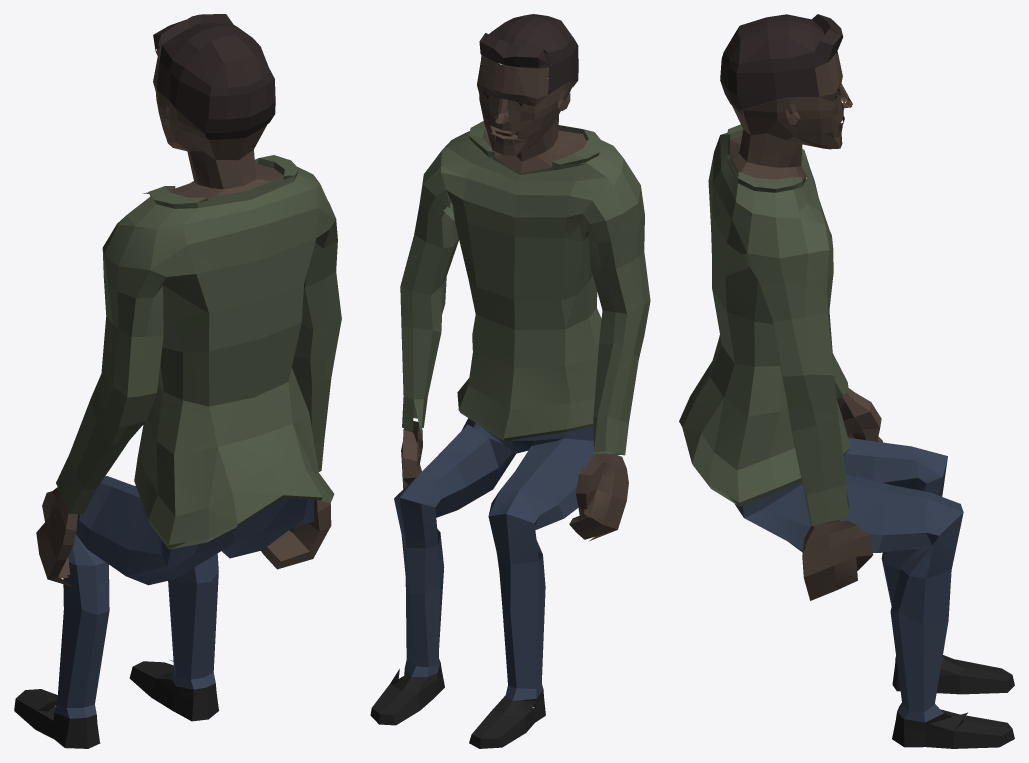
File: person_1_sit.fbx
3 renders of one model, left to right at view 1: azimuth 30°, elevation 25°; view 2: azimuth 150°, elevation 25°; view 3: azimuth 270°, elevation 25°, orthographic. The views are drawn at different scales.
Parts seen in each view (by area): view 1: BaseHuman; view 2: BaseHuman; view 3: BaseHuman.
Part boxes in pixels (x1,y1,x2,y2): BaseHuman: (14,14,341,748); BaseHuman: (370,14,650,748); BaseHuman: (679,14,1014,748).
Size of the model in its own units: 0.3725 by 1 by 0.4381.
